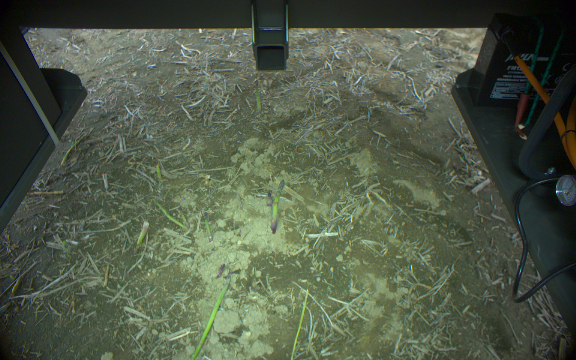aspa: (191, 274, 231, 360), (289, 287, 311, 360), (268, 179, 286, 235), (153, 201, 187, 230), (60, 133, 88, 168), (135, 220, 151, 248), (252, 80, 264, 113), (201, 213, 213, 242), (178, 205, 190, 228), (157, 166, 161, 179)
